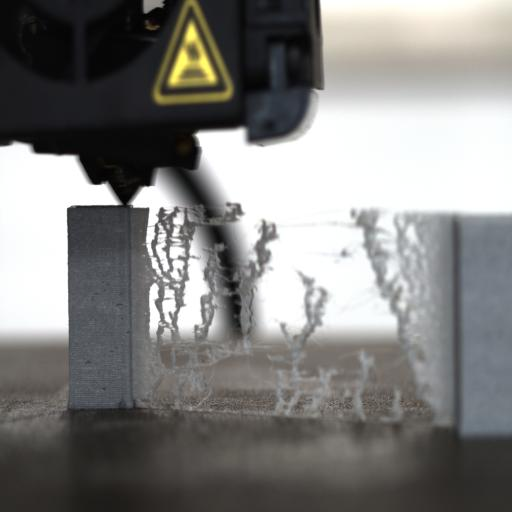stringing: (148, 202, 436, 420)
